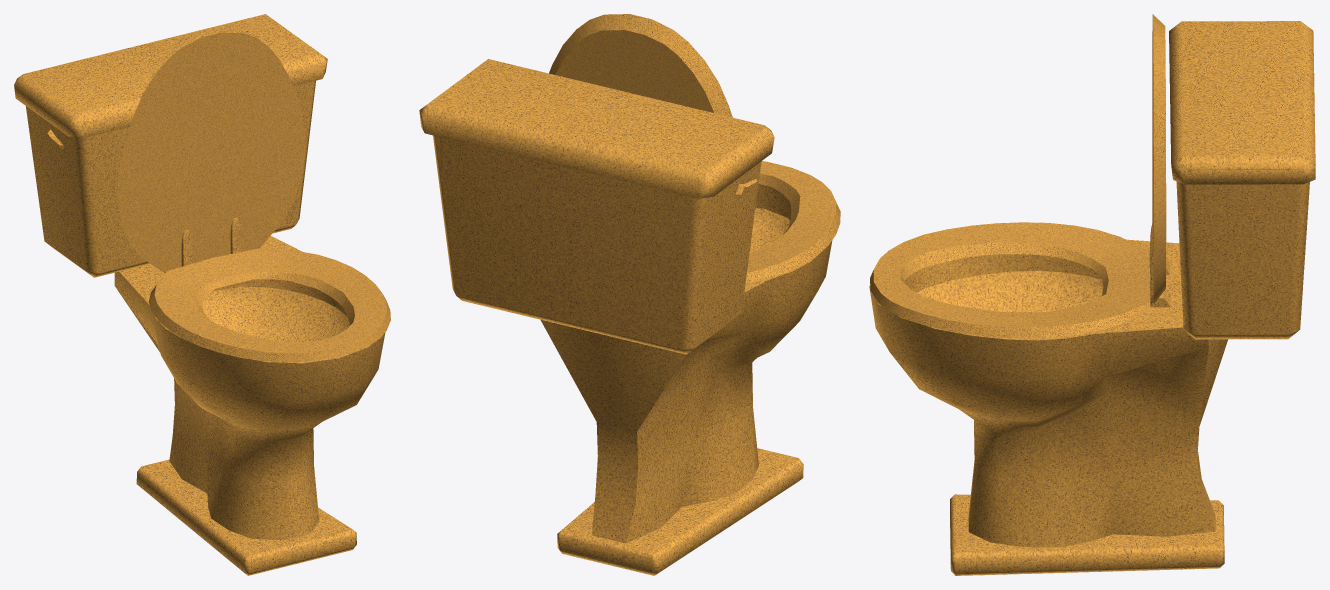
The model's file is golden_toilet.glb.
The picture shows the model from 3 angles, left to right: view 1: azimuth 30°, elevation 25°; view 2: azimuth 150°, elevation 25°; view 3: azimuth 270°, elevation 25°; orthographic projection. The views are drawn at different scales.
Parts seen in each view (by area): view 1: Body, Lid, Seat; view 2: Body, Lid, Seat; view 3: Body, Seat, Lid.
Boxes of the visible parts, <box> form: Body: <box>14,14,385,575</box>; Lid: <box>117,32,305,272</box>; Seat: <box>148,248,390,362</box>; Body: <box>419,59,832,575</box>; Lid: <box>549,14,732,117</box>; Seat: <box>745,161,840,282</box>; Body: <box>869,21,1315,575</box>; Seat: <box>870,222,1150,338</box>; Lid: <box>1149,14,1170,303</box>.
Size of the model in its own units: 1.28 by 2.17 by 1.68.
3 materials, 3 textured.
